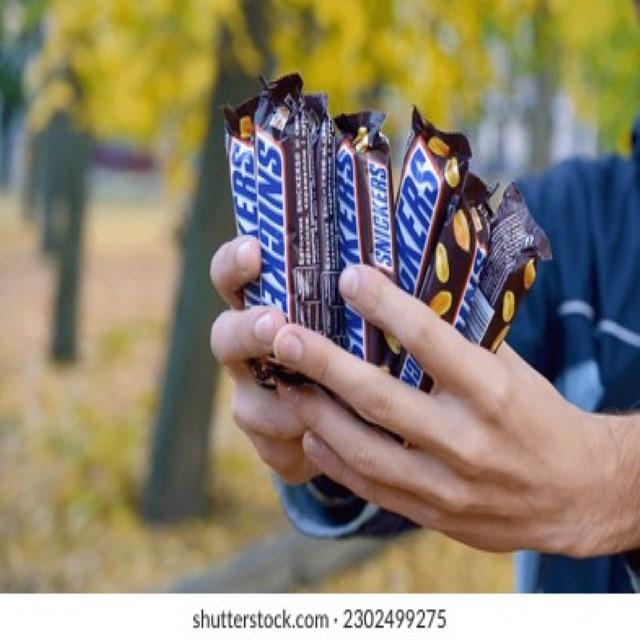snickers_chocolate: (377, 115, 465, 390), (225, 93, 295, 343), (452, 203, 545, 355), (338, 120, 390, 387), (288, 95, 340, 342)
